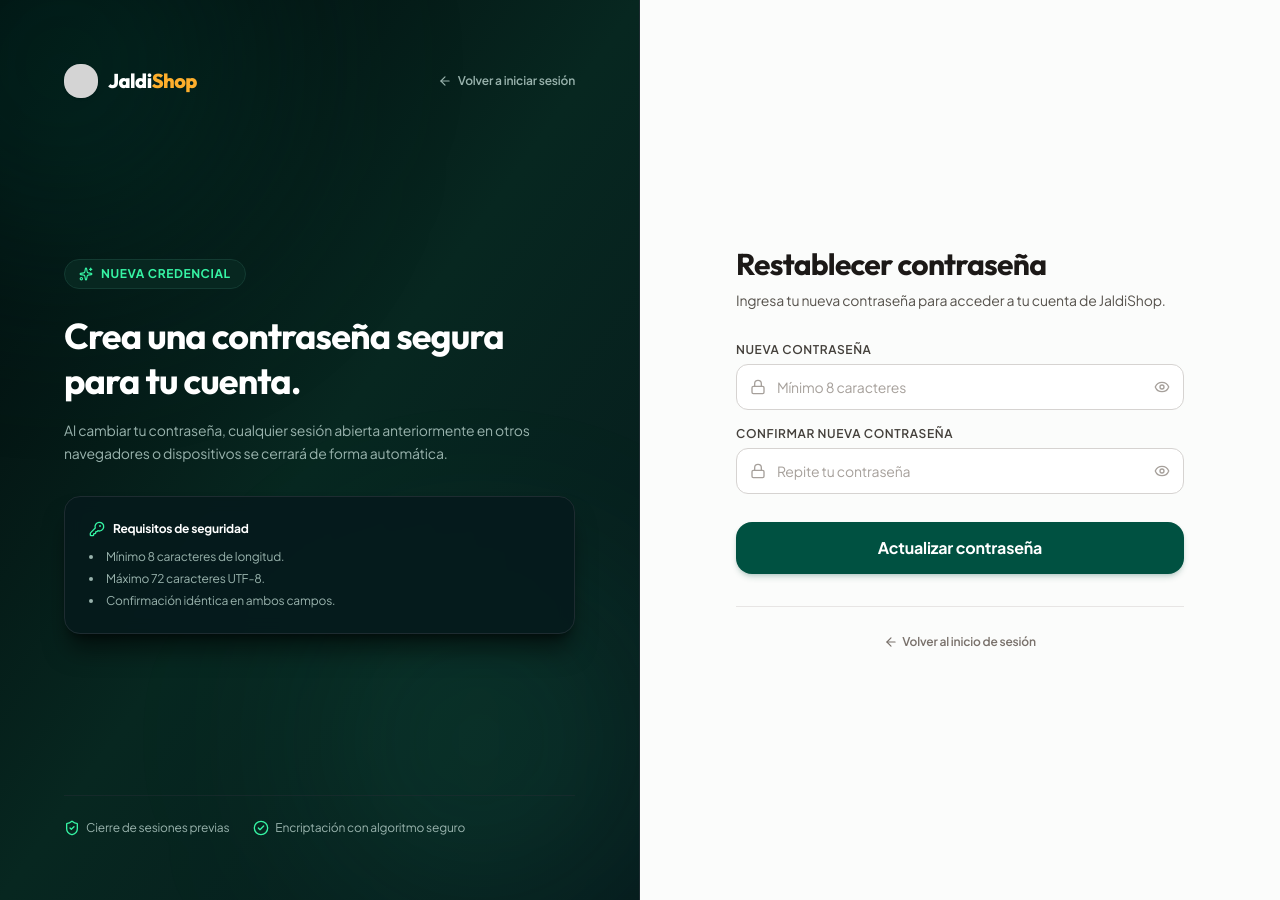
ResetPasswordForm Component › Structured Error Classification via ApiException › preserves form and displays validation message when backend responds with structured 400
Step 1. Type "NuevaContrasena2026" into the password field labelled "Nueva contraseña" → [960, 386], box [736,364,1184,410]
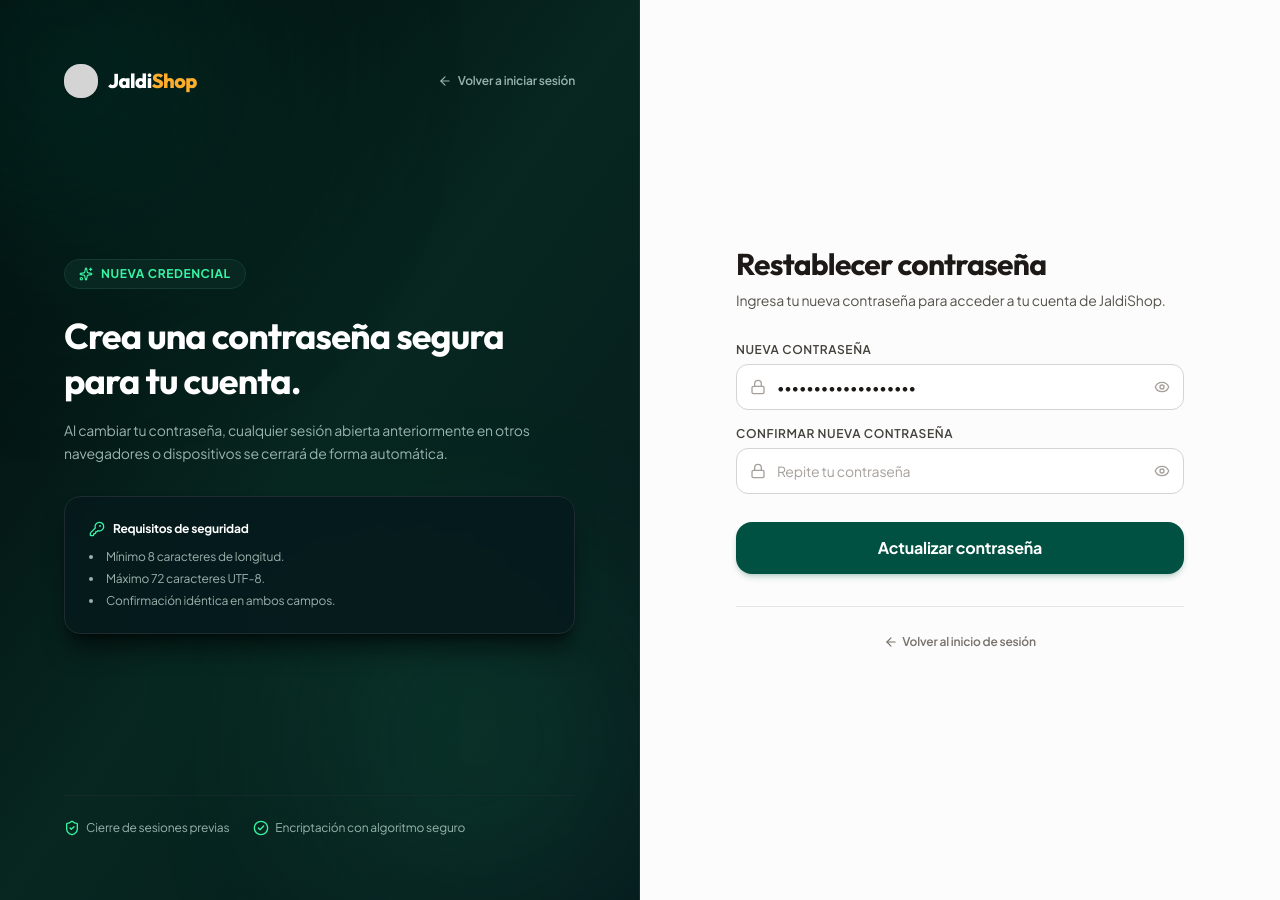
Step 2. Type "NuevaContrasena2026" into the password field labelled "Confirmar nueva contraseña" → [960, 470], box [736,448,1184,494]
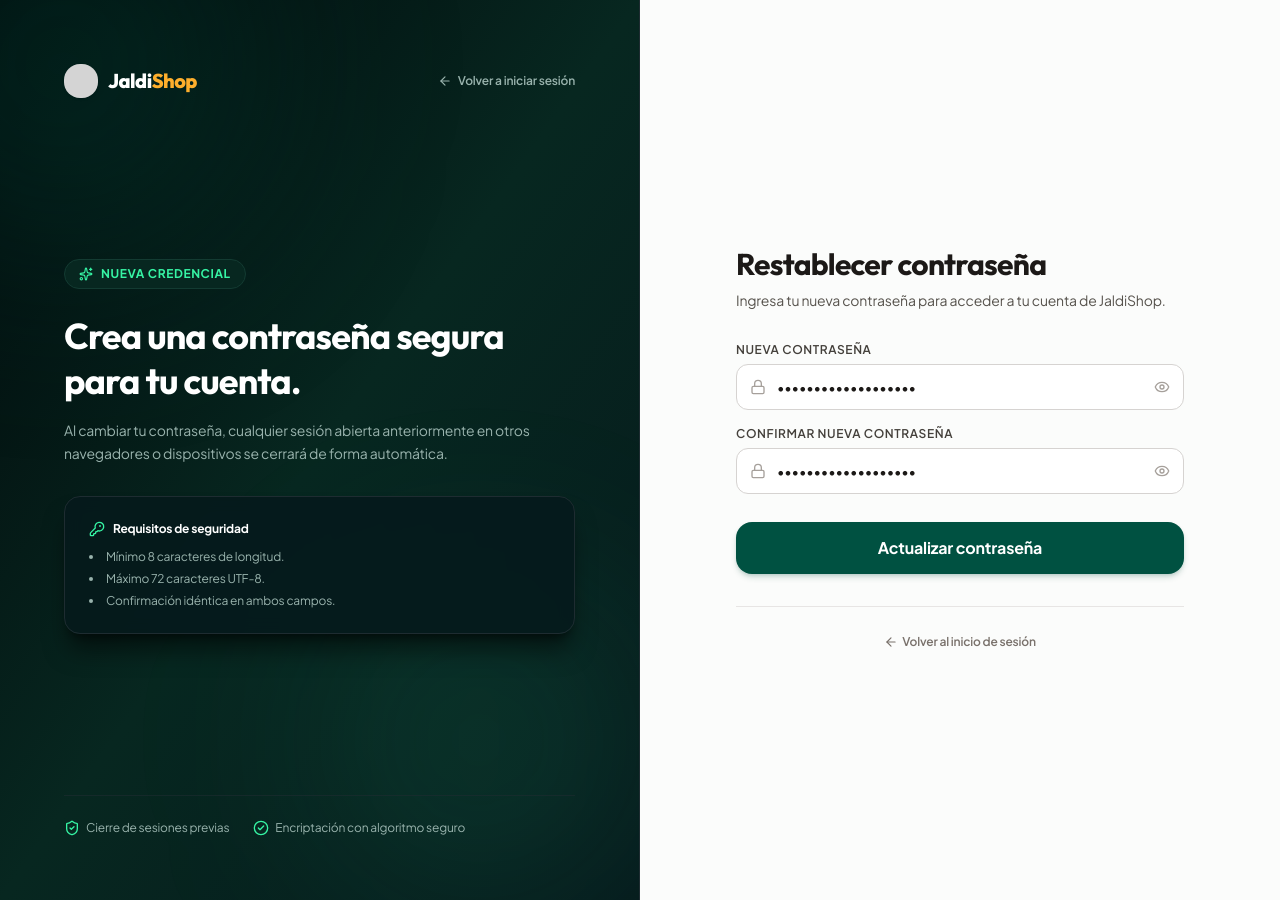
Step 3. Click the button "Actualizar contraseña" → [960, 548], box [736,522,1184,574]
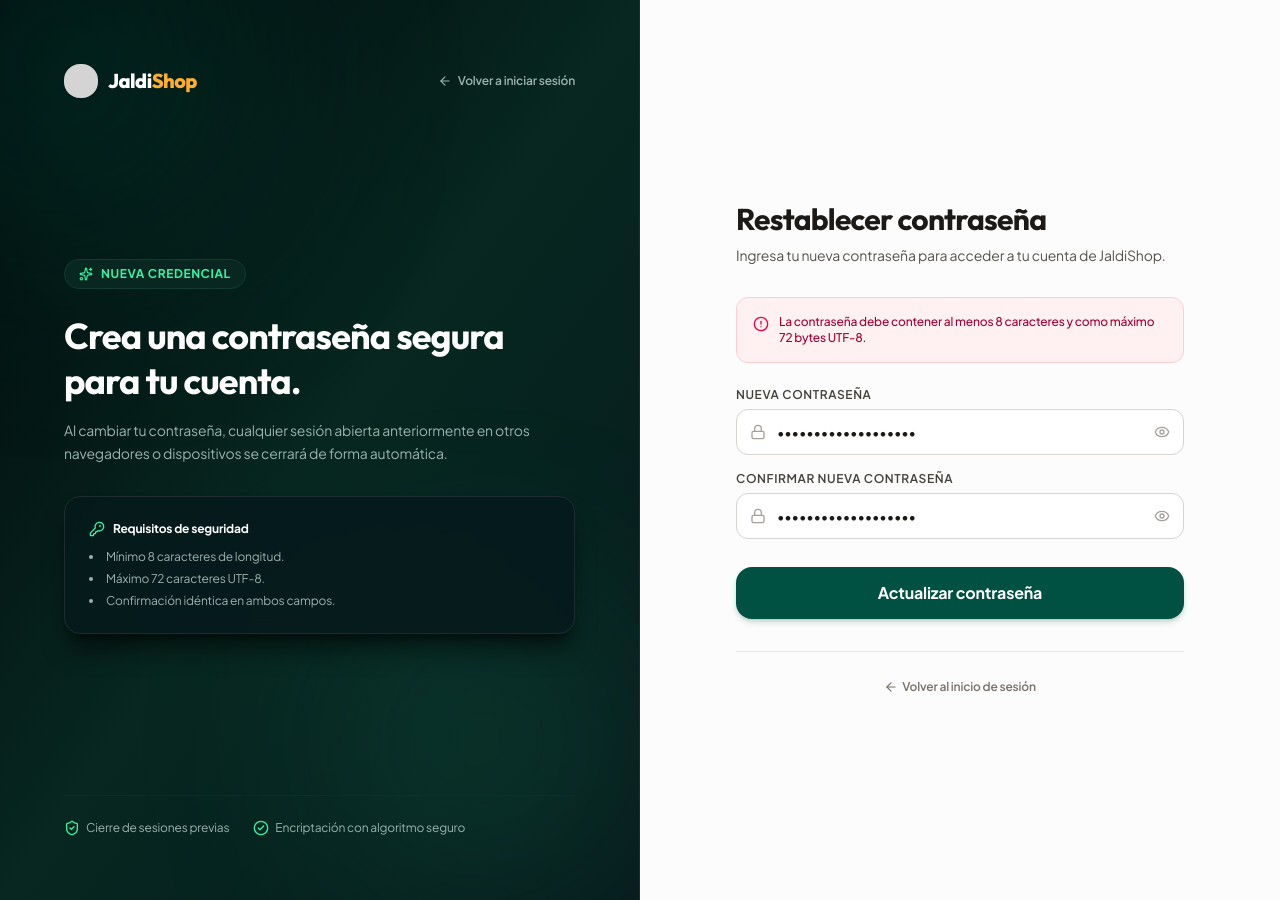
Expected: the text "La contraseña debe contener al menos 8 caracteres y como máximo 72 bytes UTF-8." is shown, [779,314,1167,346]
